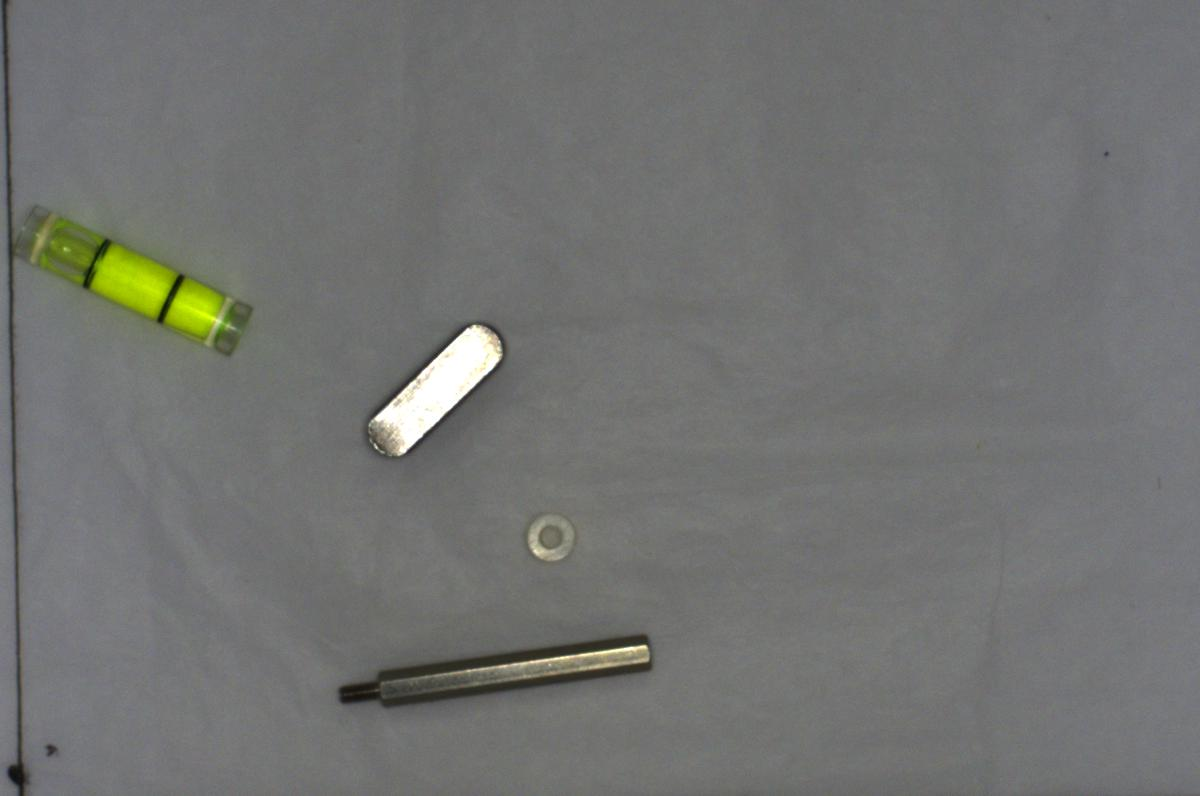Hexagonal steel column: (340, 629, 668, 713)
Horizontal bubble: (6, 203, 252, 354)
Keybar: (352, 308, 507, 460)
Plastic cushion pillar: (514, 502, 577, 569)
